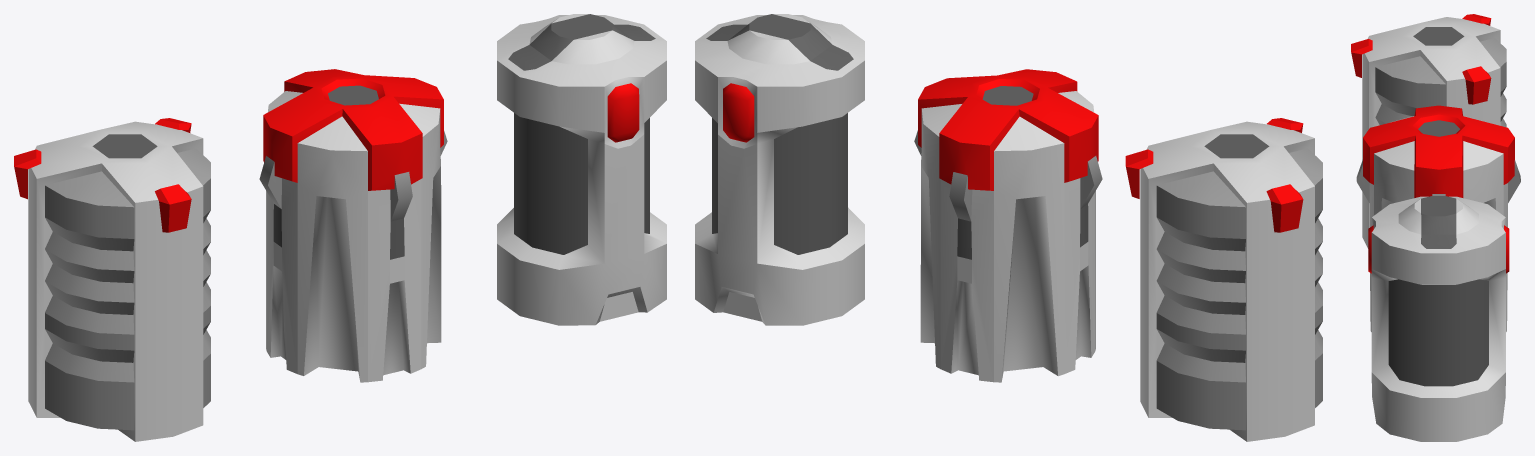
Rendered from food_containers_0.fbx.
3 views of the same model, side by side, from view 1: azimuth 30°, elevation 25°; view 2: azimuth 150°, elevation 25°; view 3: azimuth 270°, elevation 25° (orthographic). The views are drawn at different scales.
Parts seen in each view (by area): view 1: ContainerTri, ContainerQuad, ContainerBi; view 2: ContainerTri, ContainerQuad, ContainerBi; view 3: ContainerBi, ContainerTri, ContainerQuad.
Part boxes in pixels (x1=…): ContainerTri: x1=14, y1=118, x2=210, y2=441; ContainerQuad: x1=259, y1=69, x2=447, y2=382; ContainerBi: x1=497, y1=14, x2=666, y2=325; ContainerTri: x1=1125, y1=118, x2=1322, y2=441; ContainerQuad: x1=914, y1=69, x2=1102, y2=382; ContainerBi: x1=695, y1=14, x2=864, y2=325; ContainerBi: x1=1368, y1=196, x2=1509, y2=441; ContainerTri: x1=1351, y1=14, x2=1506, y2=248; ContainerQuad: x1=1356, y1=105, x2=1520, y2=331.
Bounding box in the file's own units: 48.79 × 19.8 × 14.67.
